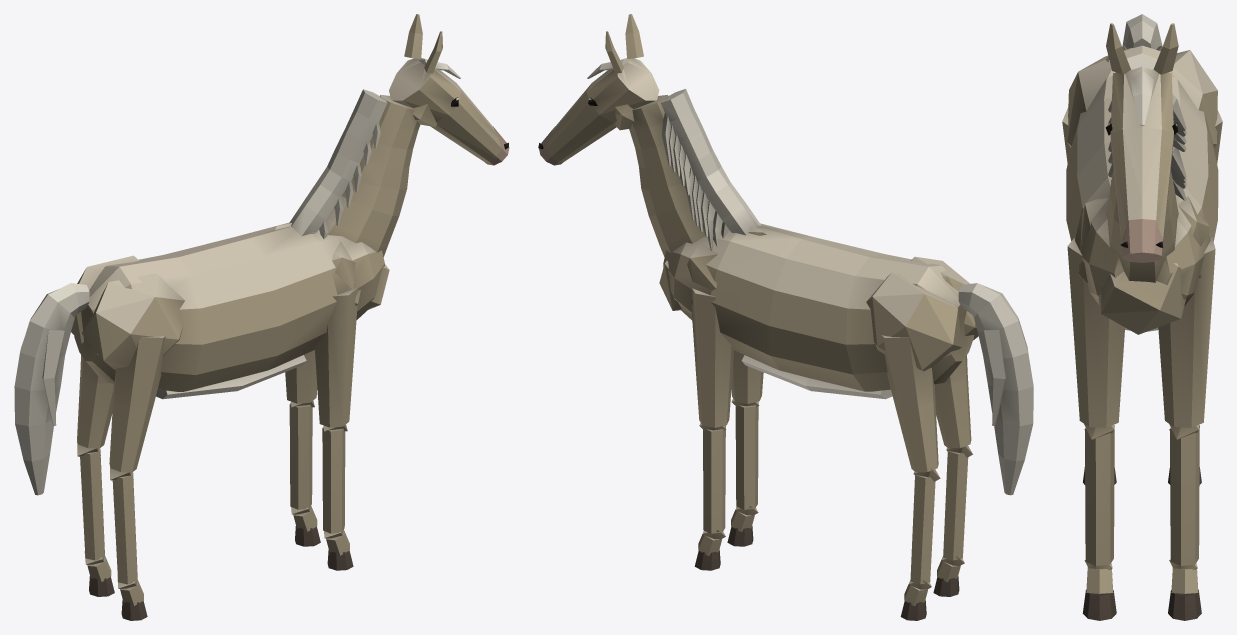
File: mt_horse_pearl.glb
3 views of the same model, side by side, from view 1: azimuth 30°, elevation 25°; view 2: azimuth 150°, elevation 25°; view 3: azimuth 270°, elevation 25° (orthographic). The views are drawn at different scales.
Visible parts, largest first — view 1: base, head_m, leg3_m, tail_m, leg1_m, leg2_m, leg0_m; view 2: base, head_m, tail_m, leg2_m, leg0_m, leg3_m, leg1_m; view 3: base, head_m, leg1_m, leg0_m, tail_m, leg2_m, leg3_m.
Part boxes in pixels (box(x1,y1,x2,y2)): base: box(71, 222, 389, 399); head_m: box(289, 14, 509, 256); leg3_m: box(109, 335, 165, 620); tail_m: box(14, 283, 89, 495); leg1_m: box(314, 287, 358, 570); leg2_m: box(77, 355, 114, 596); leg0_m: box(285, 350, 320, 546); base: box(659, 223, 978, 399); head_m: box(538, 14, 761, 256); tail_m: box(958, 283, 1033, 495); leg2_m: box(881, 335, 940, 620); leg0_m: box(692, 288, 733, 570); leg3_m: box(933, 355, 972, 596); leg1_m: box(727, 350, 763, 546); base: box(1066, 45, 1218, 334); head_m: box(1105, 23, 1186, 282); leg1_m: box(1067, 238, 1124, 620); leg0_m: box(1158, 237, 1215, 620); tail_m: box(1122, 14, 1162, 50); leg2_m: box(1168, 110, 1222, 484); leg3_m: box(1062, 107, 1116, 484).
Size of the model in its own units: 0.9555 by 0.9366 by 0.2076.
